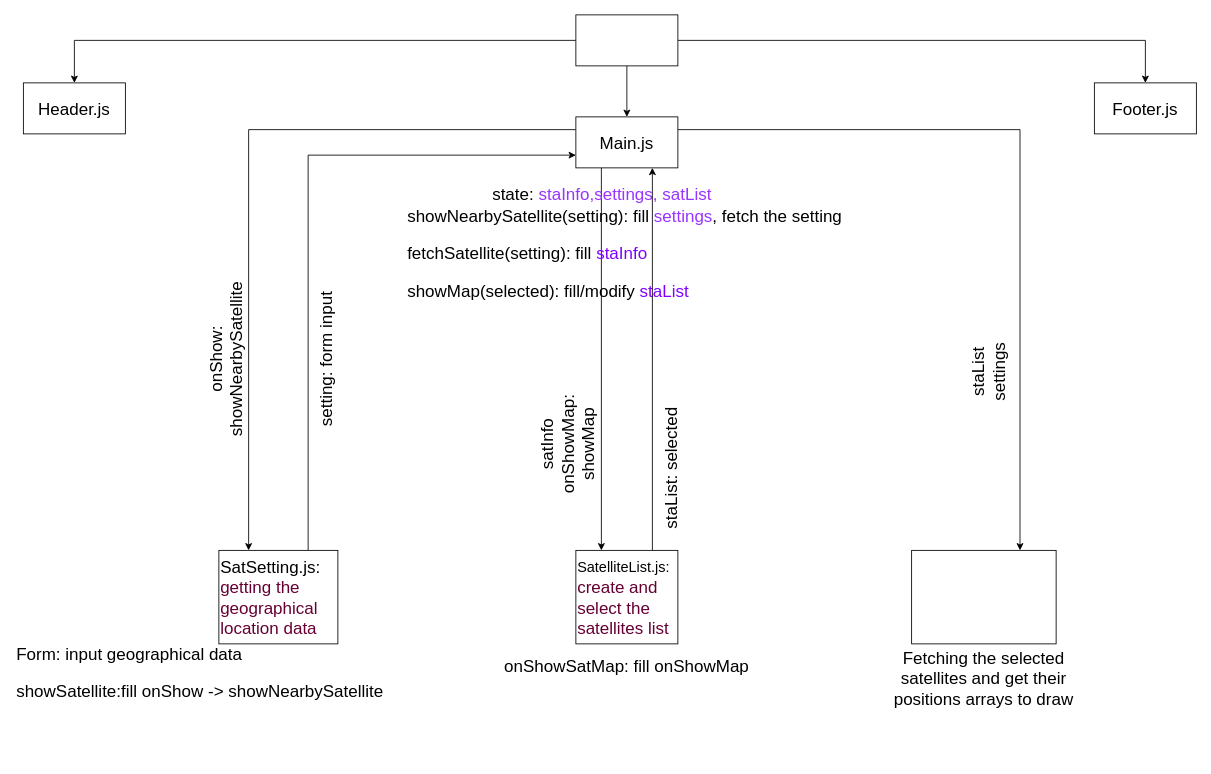
Image size: 1211x774. Some labels were removed from this diagram. The shapes that lost their labels are listed below. From the top down, each one's centre as x and y in pixels, then its label:
At [626,40]: "App.js".
At [983,597]: "WorldMap.js: show world map and satellite tracking animation".
